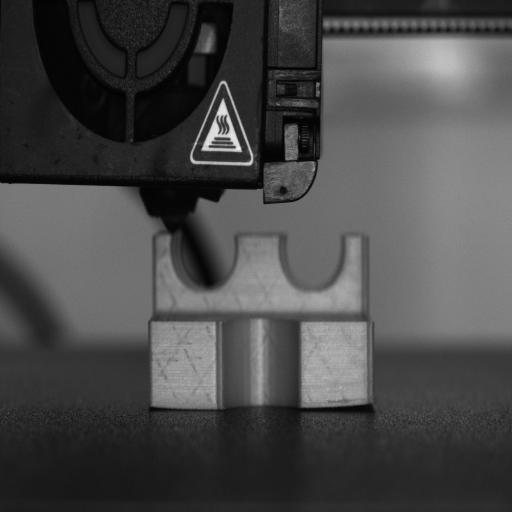warp: (324, 393, 380, 413), (145, 398, 184, 416)
